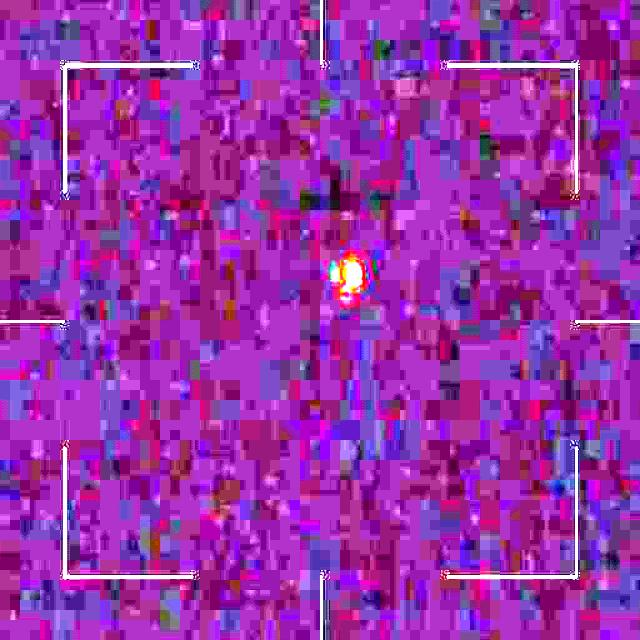bird: (329, 259, 364, 306)
